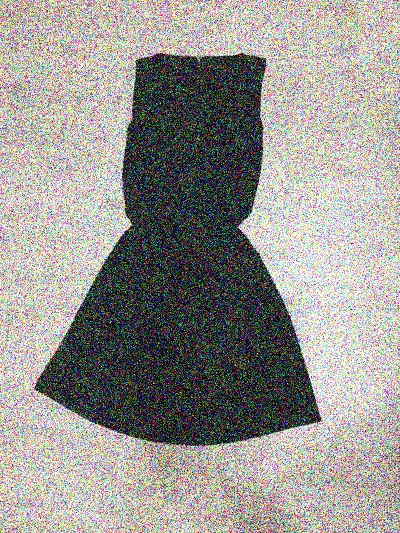Dress: (17, 40, 329, 453)
